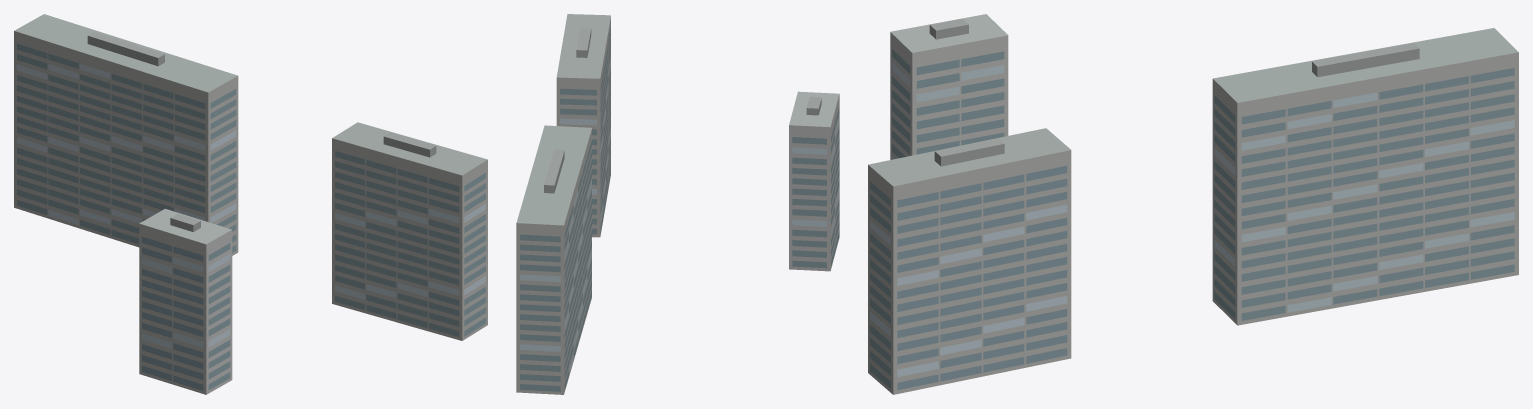
The model's file is apt-a15883101.glb.
3 views of the same model, side by side, from view 1: azimuth 30°, elevation 25°; view 2: azimuth 150°, elevation 25°; view 3: azimuth 270°, elevation 25° (orthographic). The views are drawn at different scales.
Visible parts, largest first — view 1: apt-a15883101; view 2: apt-a15883101; view 3: apt-a15883101.
Boxes of the visible parts, <box> form: apt-a15883101: <box>14,14,487,394</box>; apt-a15883101: <box>516,14,839,394</box>; apt-a15883101: <box>868,14,1518,394</box>.
Bounding box in the file's own units: 82.77 × 47 × 119.
